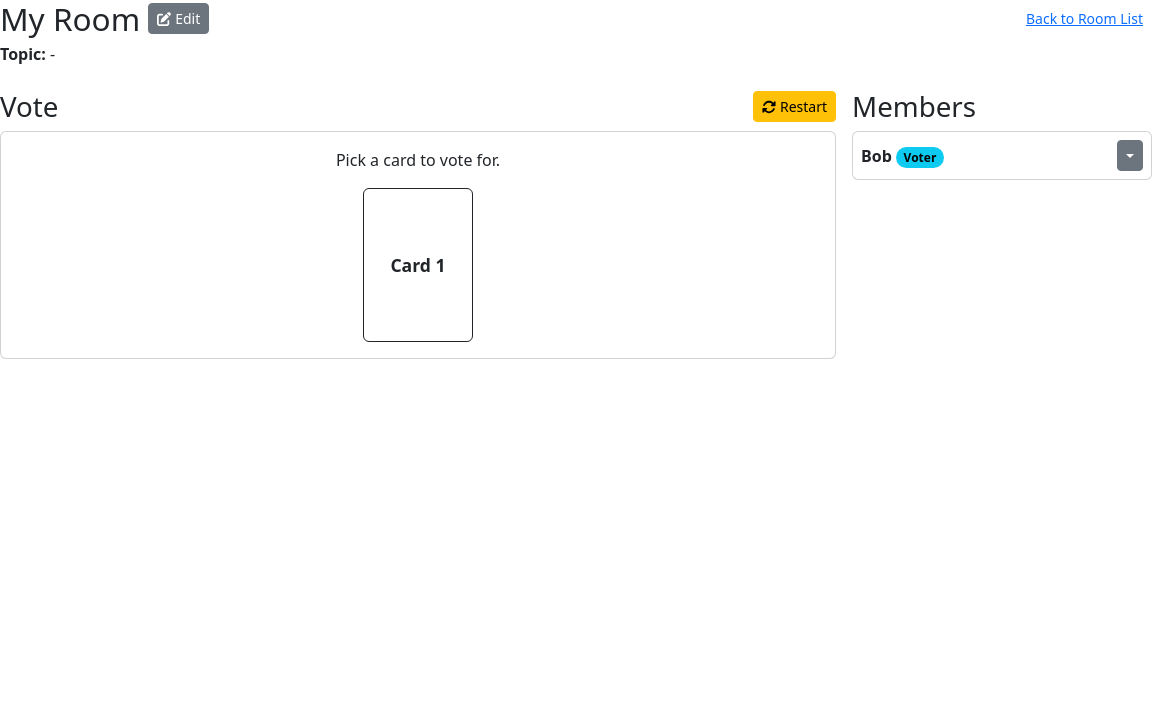
Test case: RoomView › handles room editing
This screenshot has width=1152, height=720.
Expected: the button "Card 1" is shown, [363,188,473,342]
Expected: the text "Card 2" is not shown
Click the button "Edit" at [179, 19], box [148,3,209,34]
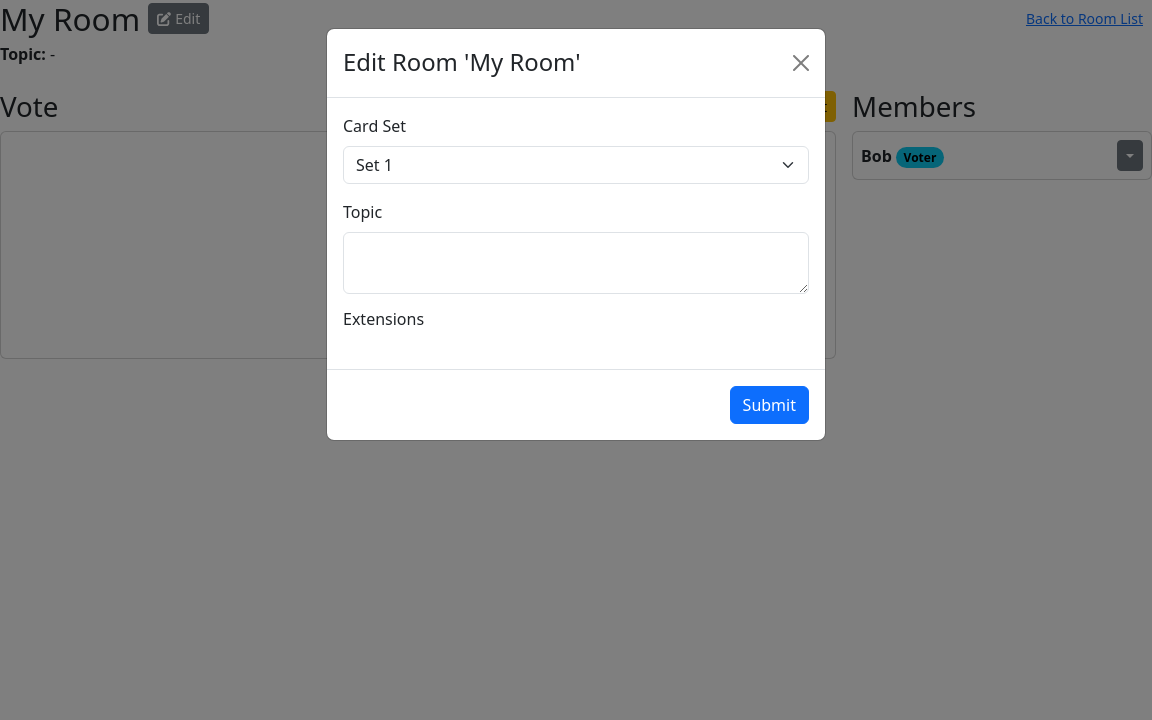
Select "Set 2" in the dropdown labelled "Card Set" at [576, 165], box [343,146,809,184]
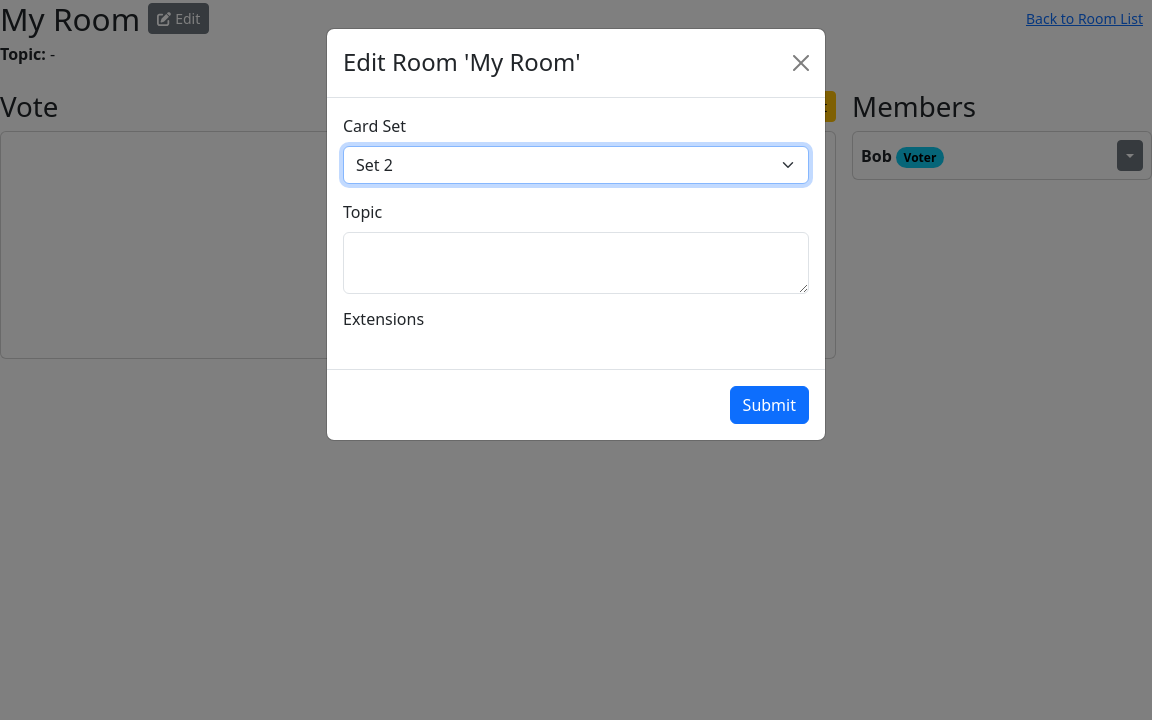
Type "Custom Topic" into the text box labelled "Topic" at [576, 263], box [343,232,809,294]
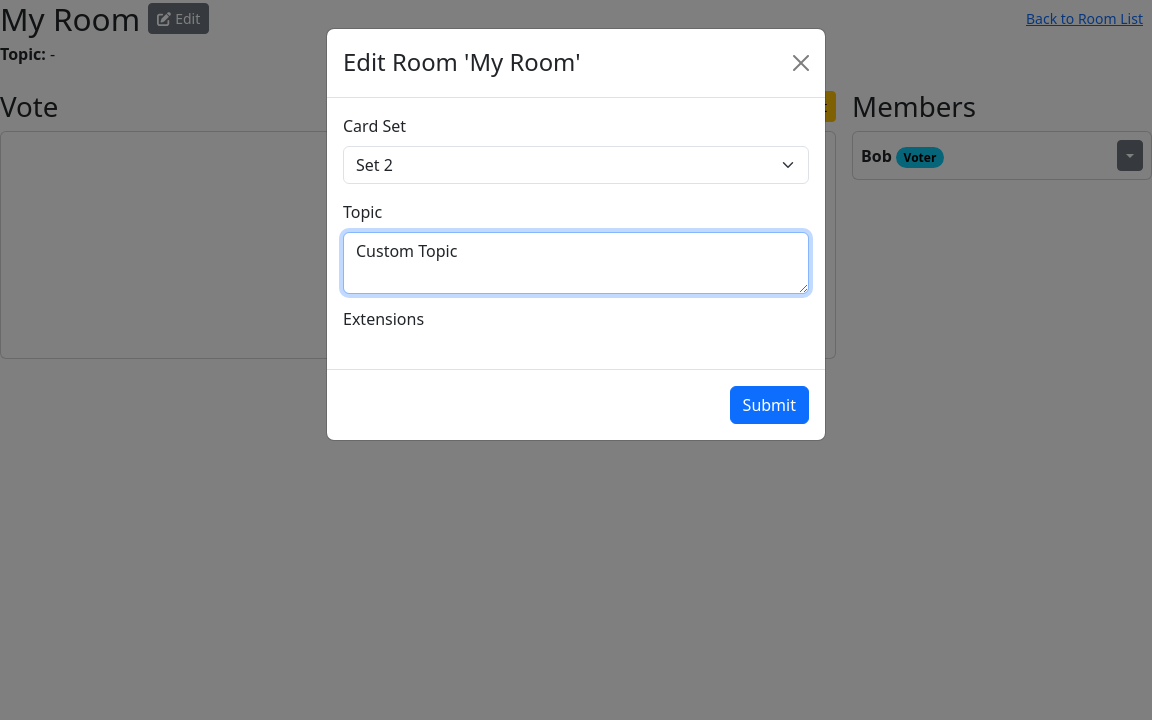
Click the button "Submit" at [769, 405], box [730,386,809,424]
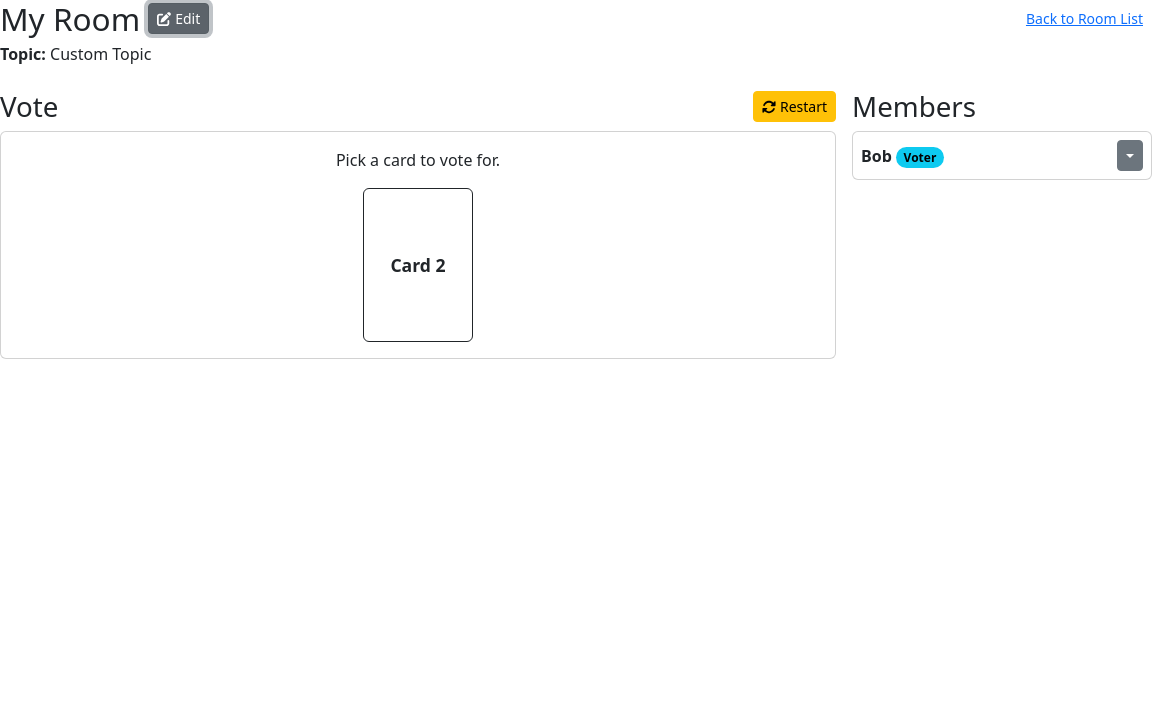
Now the text "Edit Room 'My Room'" is gone
Now the button "Card 1" is gone
Now the button "Card 2" is shown, box [363,188,473,342]
